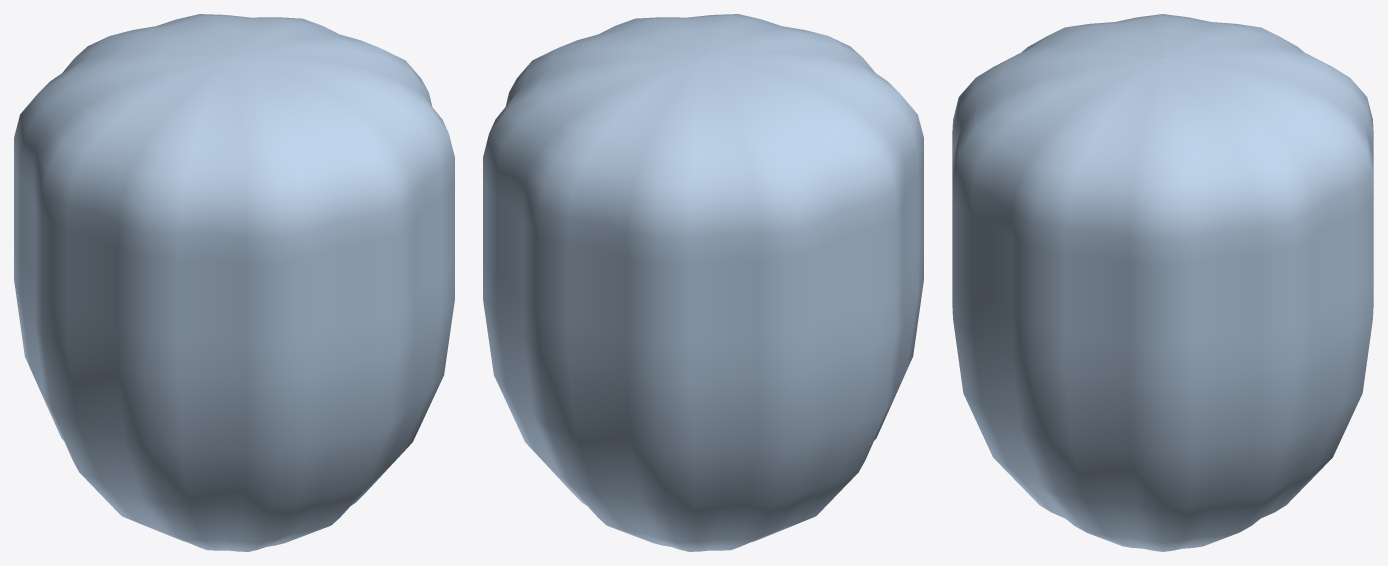
File: shell_large_bell.glb
3 renders of one model, left to right at view 1: azimuth 30°, elevation 25°; view 2: azimuth 150°, elevation 25°; view 3: azimuth 270°, elevation 25°, orthographic.
Parts seen in each view (by area): view 1: Rock; view 2: Rock; view 3: Rock.
Part boxes in pixels (left/top/right/bottom): Rock: left=14, top=14, right=454, bottom=551; Rock: left=483, top=14, right=923, bottom=551; Rock: left=952, top=14, right=1373, bottom=551.
Bounding box in the file's own units: 3.11 × 3.7 × 2.96.
